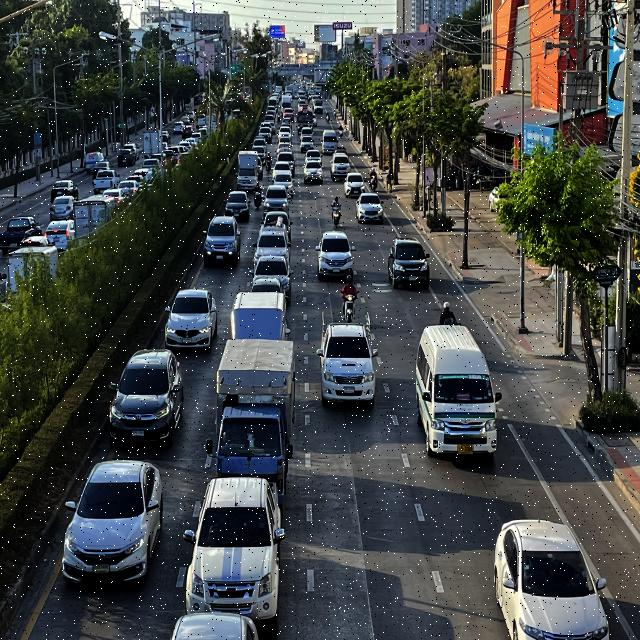bike: (341, 272, 359, 324), (329, 195, 342, 229), (252, 180, 264, 212)
car: (184, 472, 284, 640), (492, 513, 612, 640), (59, 458, 165, 588), (416, 325, 504, 468), (164, 288, 216, 352), (314, 229, 356, 281), (202, 214, 242, 266), (249, 256, 293, 302), (252, 224, 292, 260), (262, 185, 291, 218), (355, 191, 384, 223), (224, 190, 250, 221)
truck: (205, 339, 295, 512), (316, 307, 380, 411), (228, 290, 291, 344), (234, 150, 258, 193)
